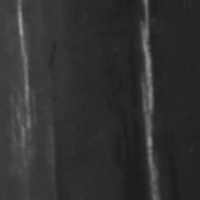scratches: (125, 0, 169, 187), (3, 1, 41, 150)
